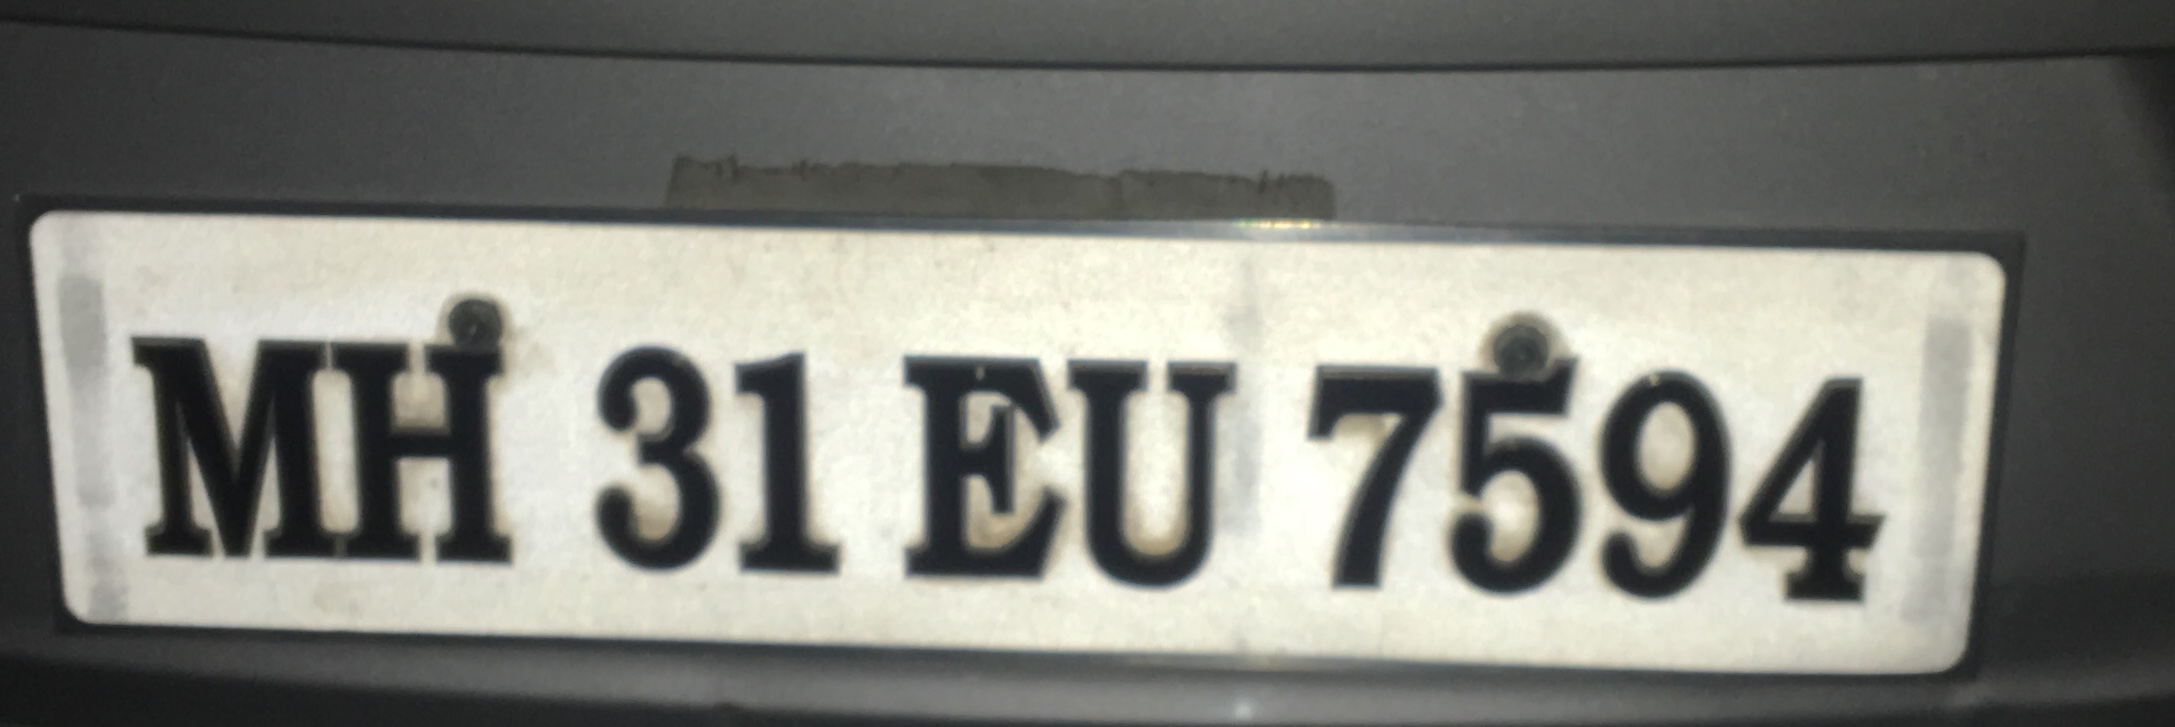numberplate: (21, 207, 2015, 682)
